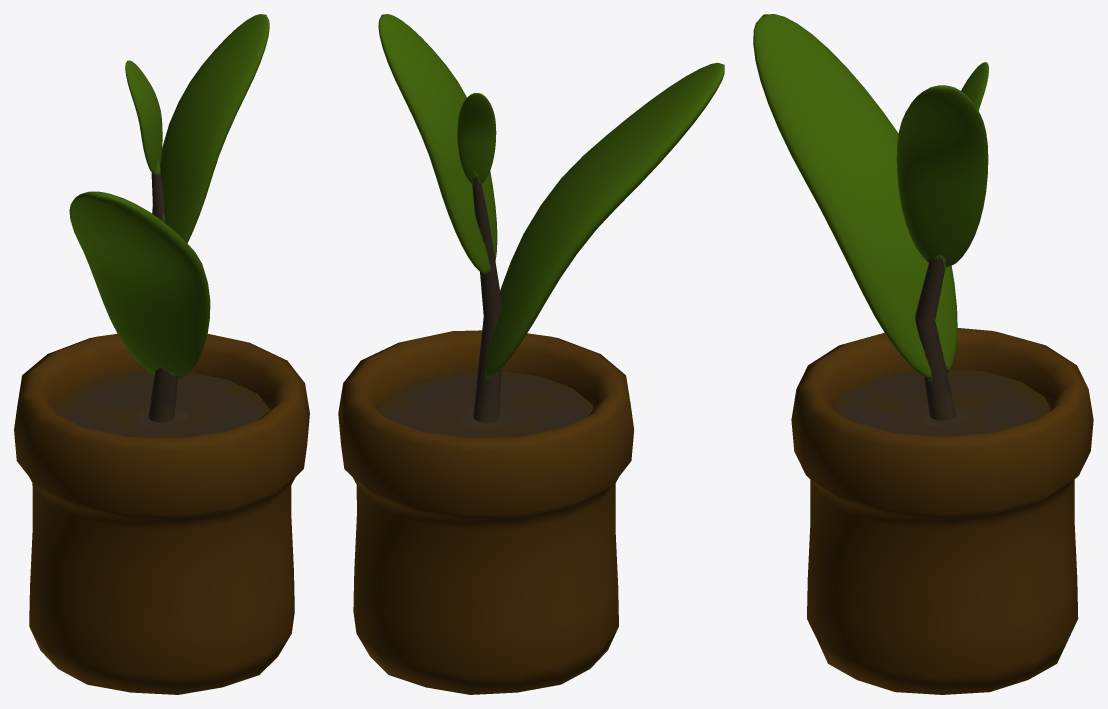
The model's file is Potplant_Complete.fbx.
3 views of the same model, side by side, from view 1: azimuth 30°, elevation 25°; view 2: azimuth 150°, elevation 25°; view 3: azimuth 270°, elevation 25° (orthographic).
Parts seen in each view (by area): view 1: Potplant; view 2: Potplant; view 3: Potplant.
Part boxes in pixels (left/top/right/bottom): Potplant: left=14, top=14, right=309, bottom=694; Potplant: left=338, top=14, right=724, bottom=694; Potplant: left=753, top=14, right=1093, bottom=694.
Bounding box in the file's own units: 2.28 × 4.65 × 2.33.
